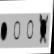correct: (0, 22, 8, 42)
not correct: (37, 12, 49, 46)
